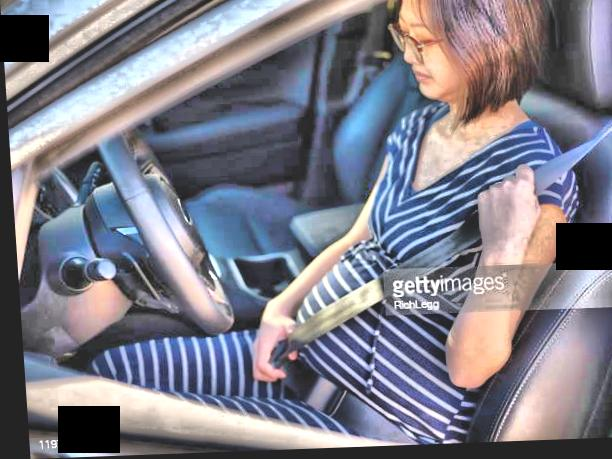seatbelt: (264, 122, 612, 448)
